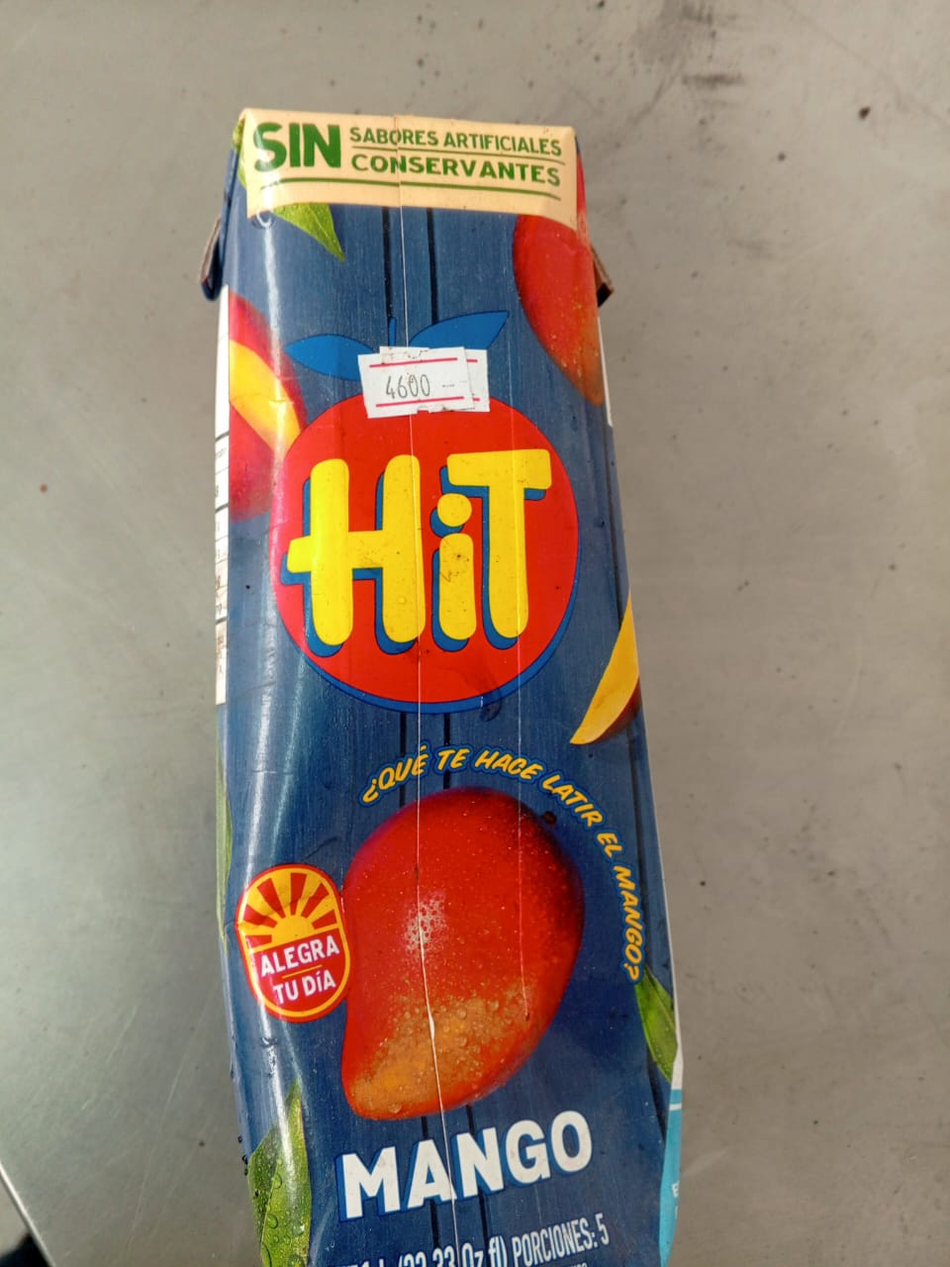Carton: (205, 106, 680, 1267)
